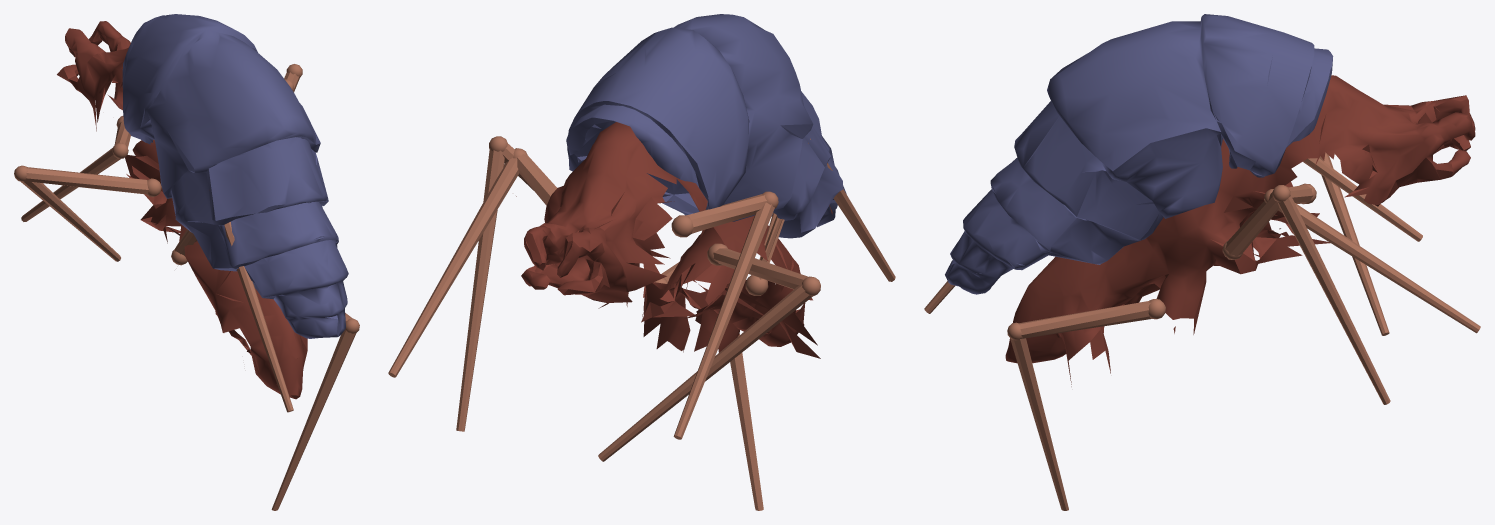
File: big-biter-attack.glb
The picture shows the model from 3 angles, left to right: view 1: azimuth 30°, elevation 25°; view 2: azimuth 150°, elevation 25°; view 3: azimuth 270°, elevation 25°; orthographic projection. The views are drawn at different scales.
Parts seen in each view (by area): view 1: body; view 2: body; view 3: body.
Boxes of the visible parts, x1=… form: body: x1=14, y1=14, x2=359, y2=510; body: x1=388, y1=14, x2=895, y2=510; body: x1=924, y1=14, x2=1480, y2=510.
Size of the model in its own units: 2.33 by 3.5 by 3.6.
